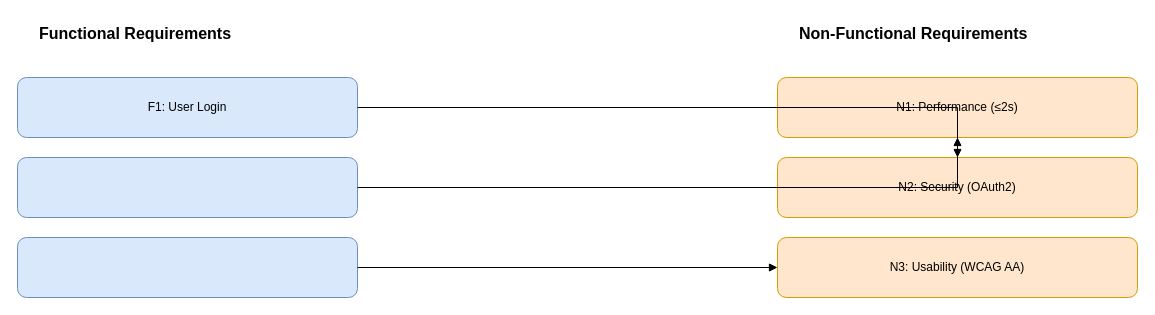
Some shapes in this 1155 by 315 pixel diagram are drawn without their labels. The shapes that lost their labels are listed below. From the top down, each one's centre as x and y in pixels, then its label:
the point at 187,187: F2: Upload Dataset
the point at 187,267: F3: Generate Report
